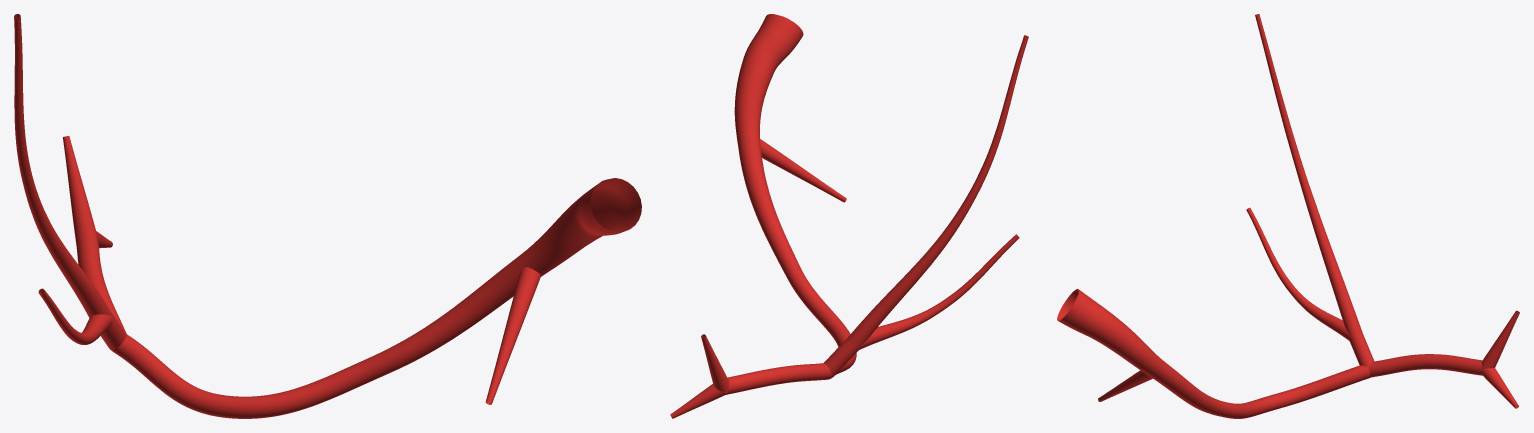
Rendered from circulatorio-superior-gluteal-artery-r.glb.
The picture shows the model from 3 angles, left to right: view 1: azimuth 30°, elevation 25°; view 2: azimuth 150°, elevation 25°; view 3: azimuth 270°, elevation 25°; orthographic projection. The views are drawn at different scales.
Visible parts, largest first — view 1: Superior gluteal artery.r; view 2: Superior gluteal artery.r; view 3: Superior gluteal artery.r.
Boxes of the visible parts, box(x1,y1,x2,y2) form: Superior gluteal artery.r: box(14, 14, 641, 418); Superior gluteal artery.r: box(670, 14, 1028, 418); Superior gluteal artery.r: box(1057, 14, 1519, 418).
Bounding box in the file's own units: 0.0483 × 0.0441 × 0.0579.
